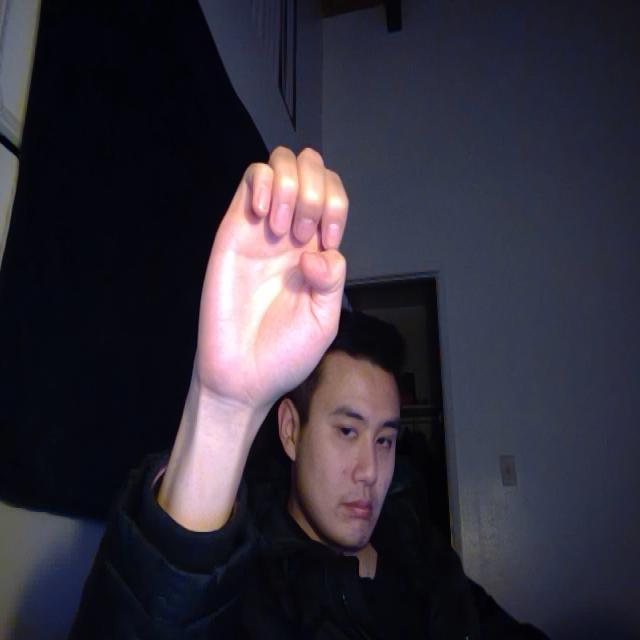E: (179, 95, 370, 468)
